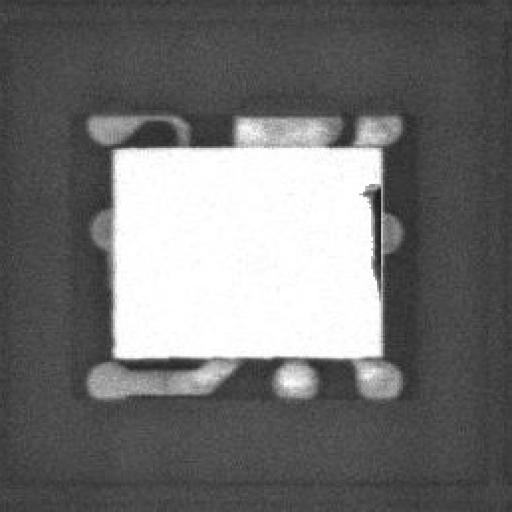DIE_BROKEN: (357, 176, 385, 294)
